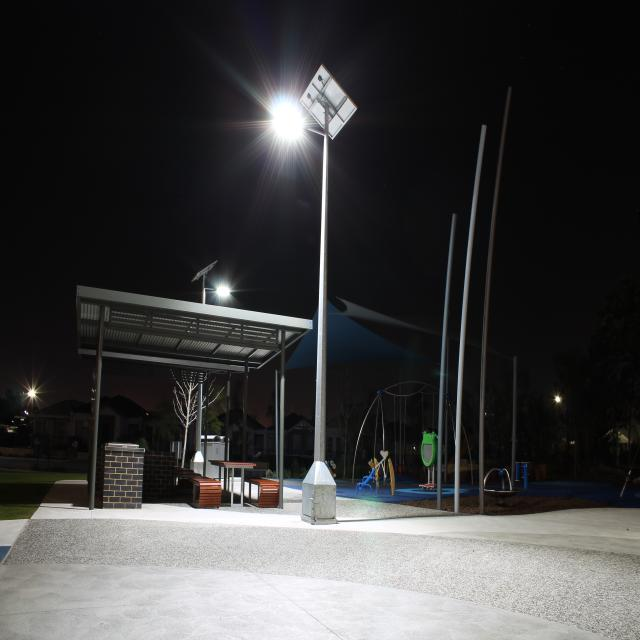Street Light: (272, 98, 337, 523), (190, 284, 232, 483), (540, 395, 561, 468), (27, 385, 37, 451)
